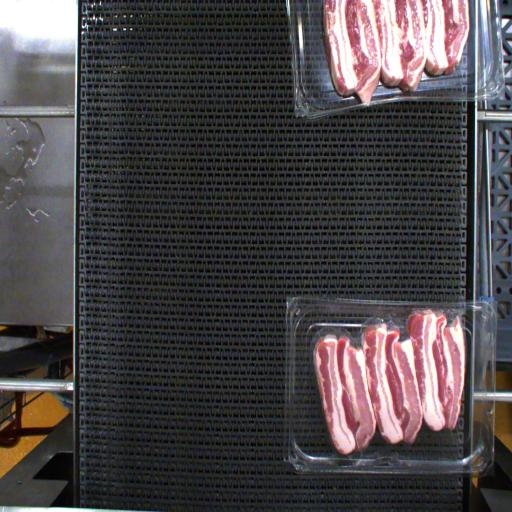unsealed: (306, 304, 476, 371)
